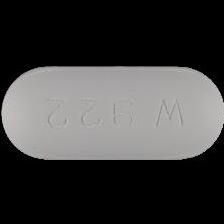50436-5022: (0, 0, 224, 224)
